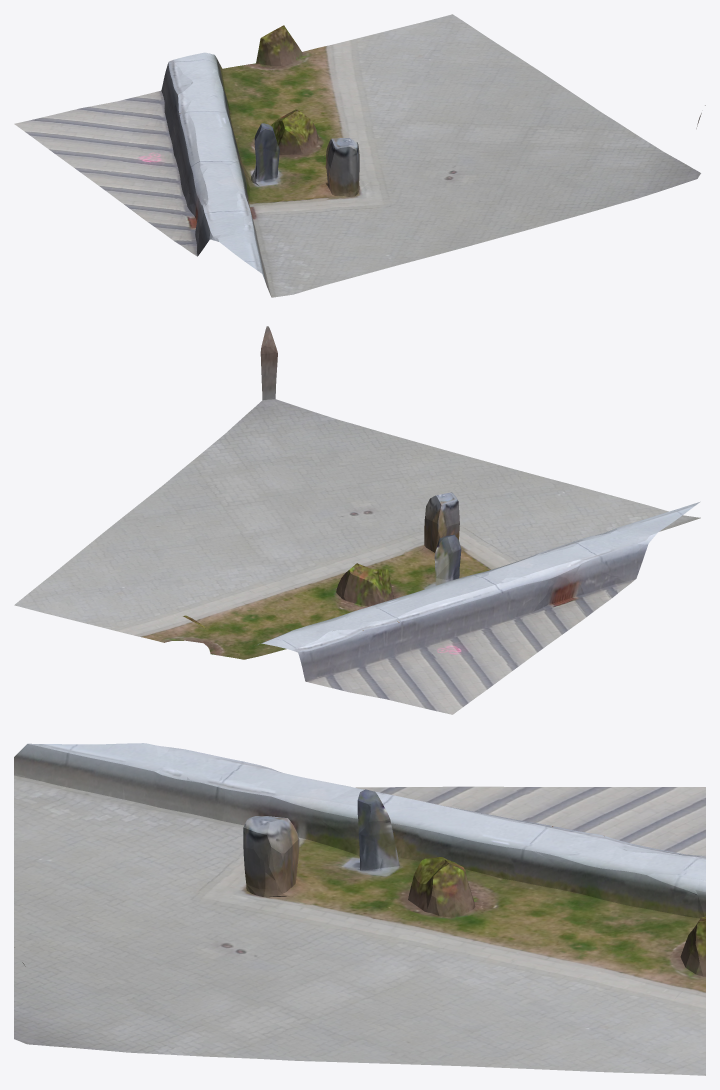
The picture shows the model from 3 angles, top to bottom: view 1: azimuth 30°, elevation 25°; view 2: azimuth 150°, elevation 25°; view 3: azimuth 270°, elevation 25°; orthographic projection. The views are drawn at different scales.
Bounding box in the file's own units: 8.36 × 1.85 × 8.36.
2 materials, 2 textured.
